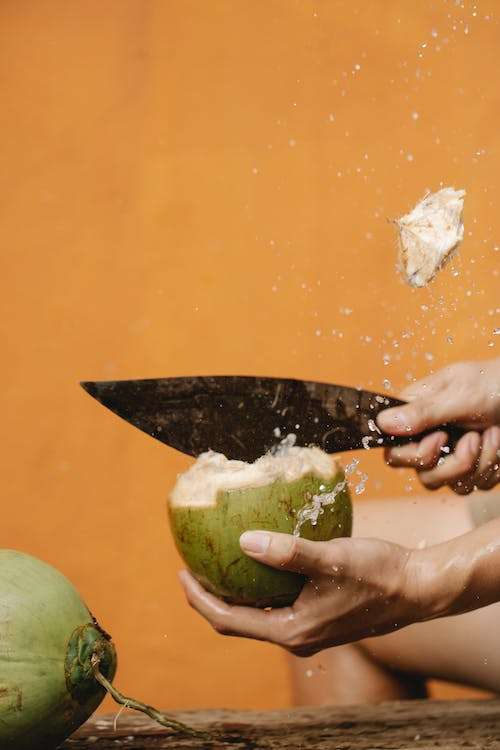knife: (74, 372, 500, 469)
